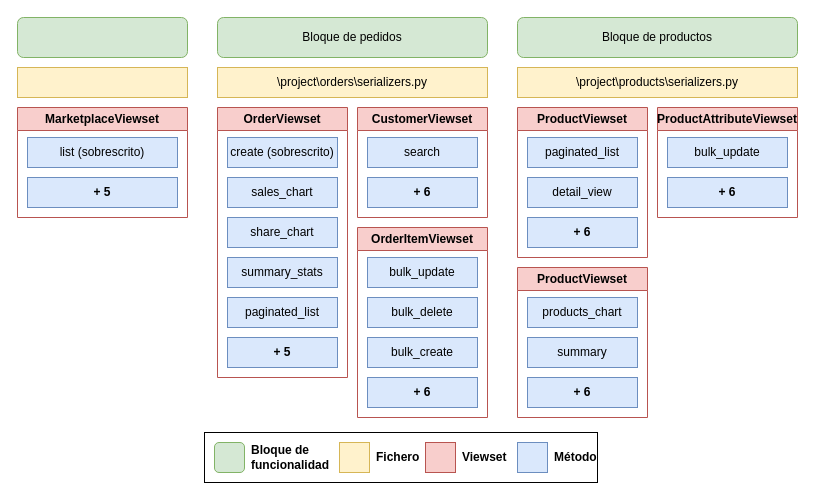
The diagram is 815 pixels wide and 500 high, and some of its shapes have lost their labels. Each missing label, with the centre of its shape:
"\project\marketplaces\views.py" belongs at (x=102, y=82).
"Bloque de canales" belongs at (x=102, y=37).
